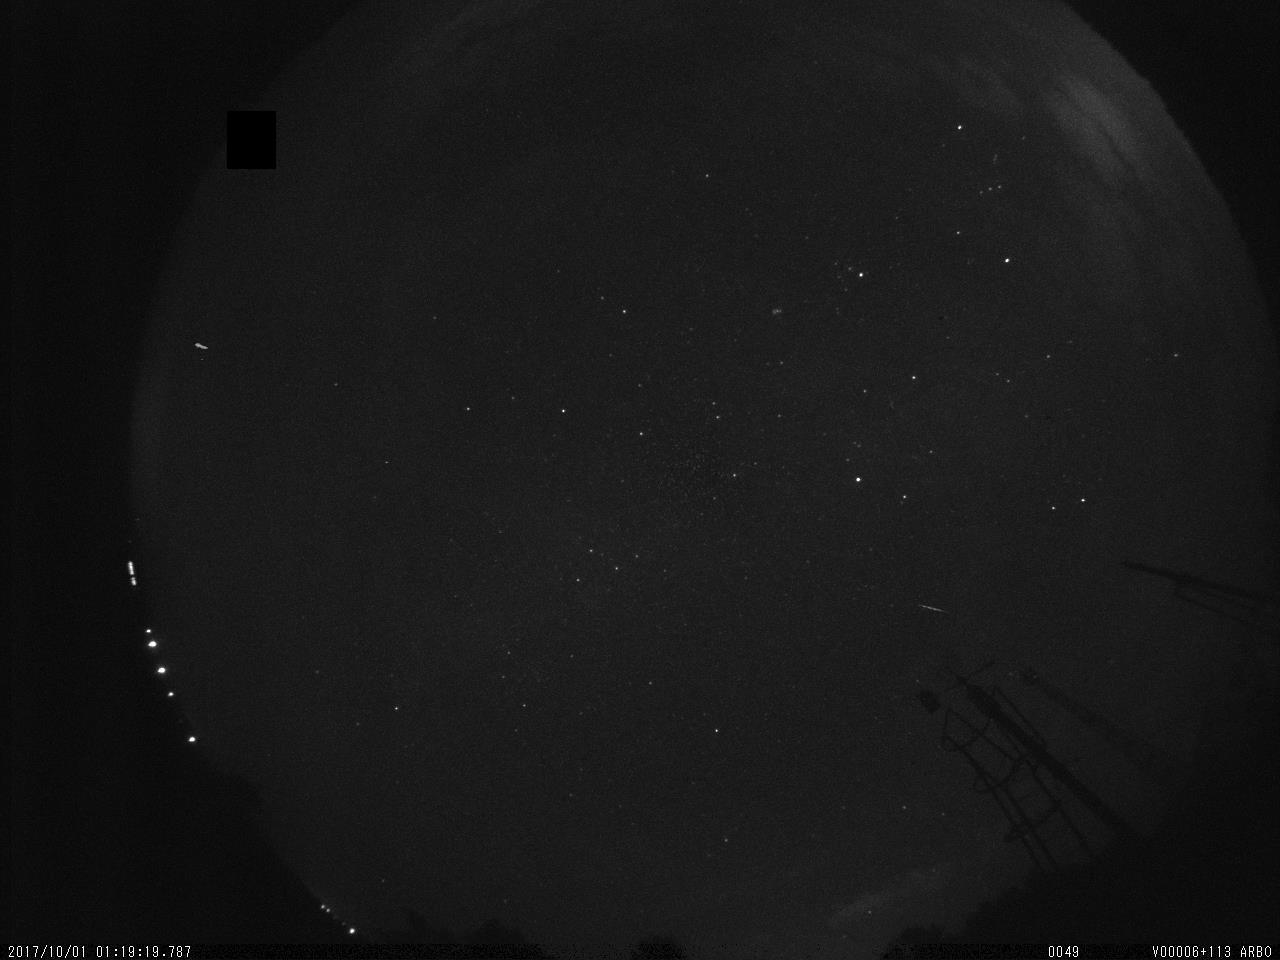TLE: (187, 299, 220, 375)
